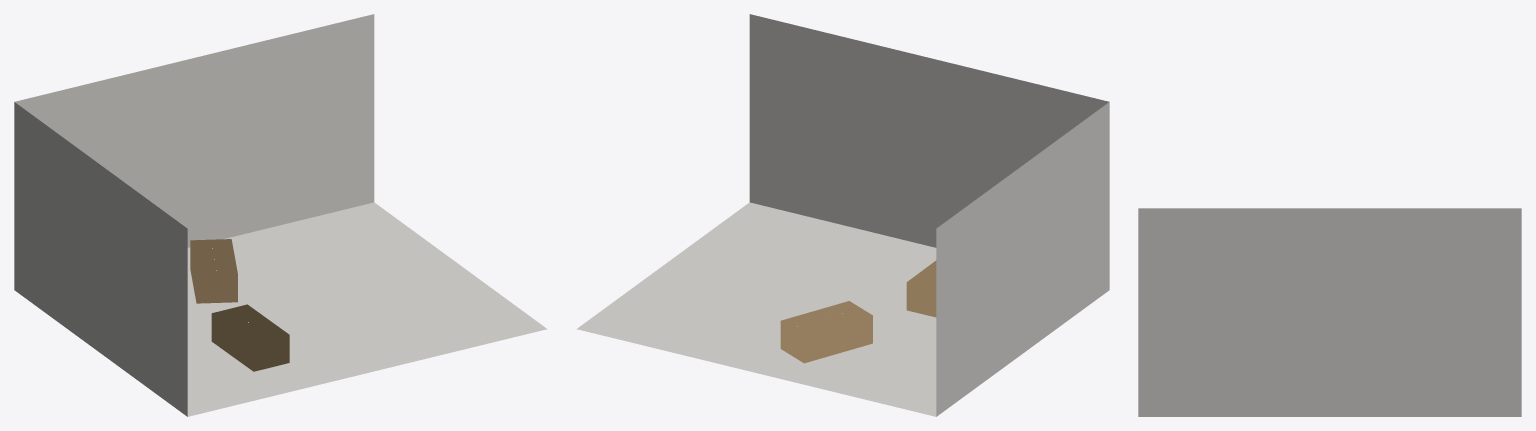
The picture shows the model from 3 angles, left to right: view 1: azimuth 30°, elevation 25°; view 2: azimuth 150°, elevation 25°; view 3: azimuth 270°, elevation 25°; orthographic projection. The views are drawn at different scales.
Parts seen in each view (by area): view 1: Room, coffee_table_1_mesh, coffee_table_0_mesh; view 2: Room, coffee_table_0_mesh, coffee_table_1_mesh; view 3: Room.
Boxes of the visible parts, left/top/right/bottom form: Room: left=14, top=14, right=547, bottom=416; coffee_table_1_mesh: left=211, top=304, right=289, bottom=371; coffee_table_0_mesh: left=190, top=239, right=237, bottom=303; Room: left=576, top=14, right=1109, bottom=416; coffee_table_0_mesh: left=780, top=301, right=872, bottom=363; coffee_table_1_mesh: left=906, top=260, right=936, bottom=317; Room: left=1138, top=208, right=1521, bottom=416.
Bounding box in the file's own units: 6 × 3 × 5.
